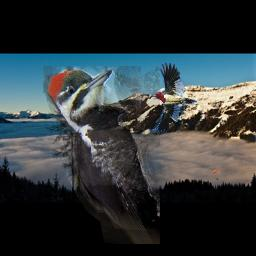Woodpecker: (43, 66, 160, 244), (151, 62, 197, 134)
